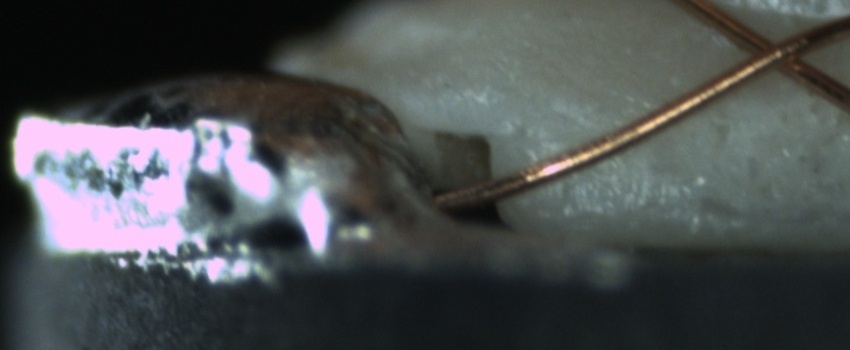CL: (723, 19, 826, 84)
